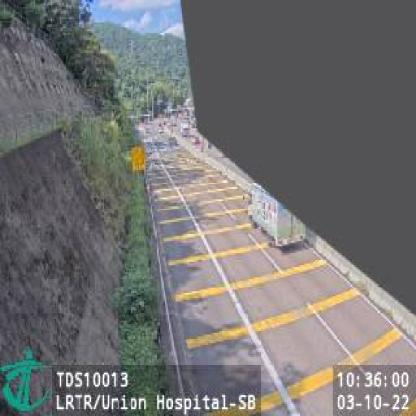Truck: (243, 180, 306, 244)
